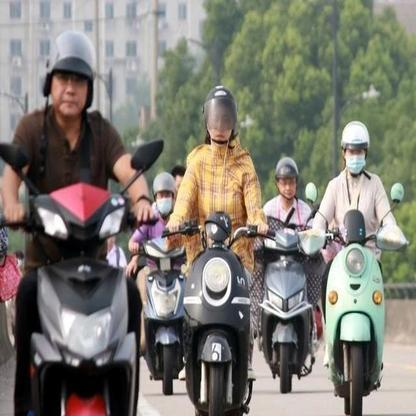target: (5, 27, 153, 410), (164, 76, 270, 404), (308, 116, 406, 408)
